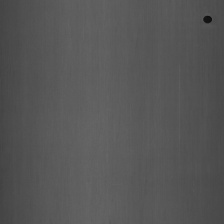punching_hole: (202, 12, 213, 26)
